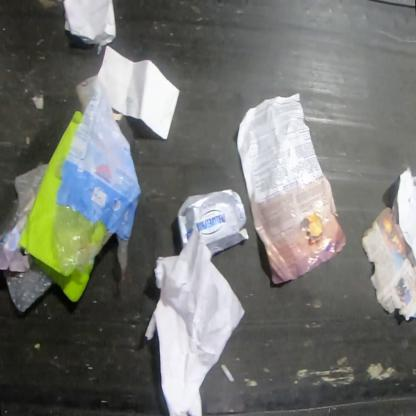cardboard: (176, 188, 250, 256)
soft_plastic: (50, 74, 144, 278), (0, 160, 54, 312)
